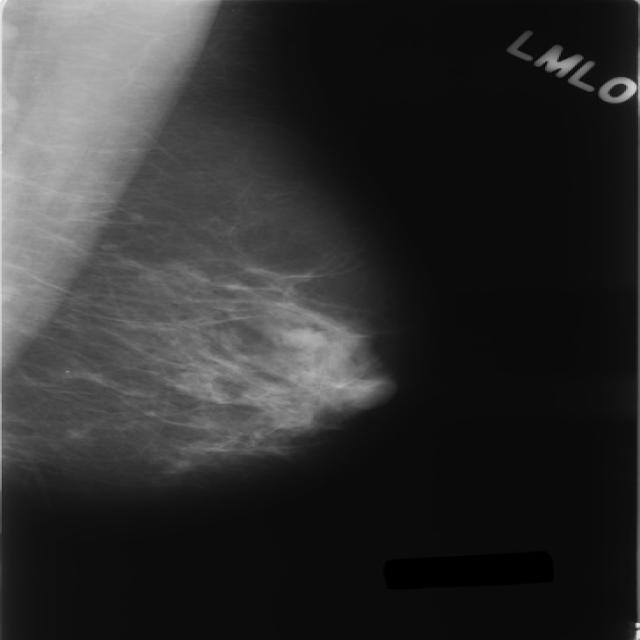tumour: (282, 327, 324, 348)
